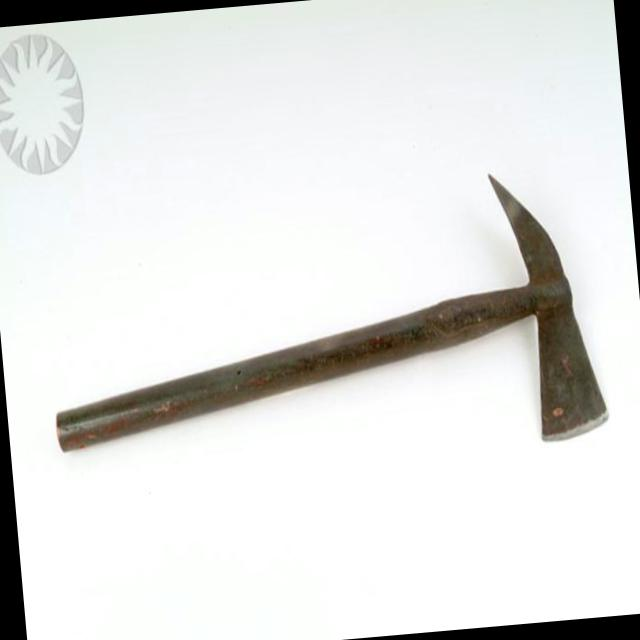Axe: (56, 176, 606, 450)
